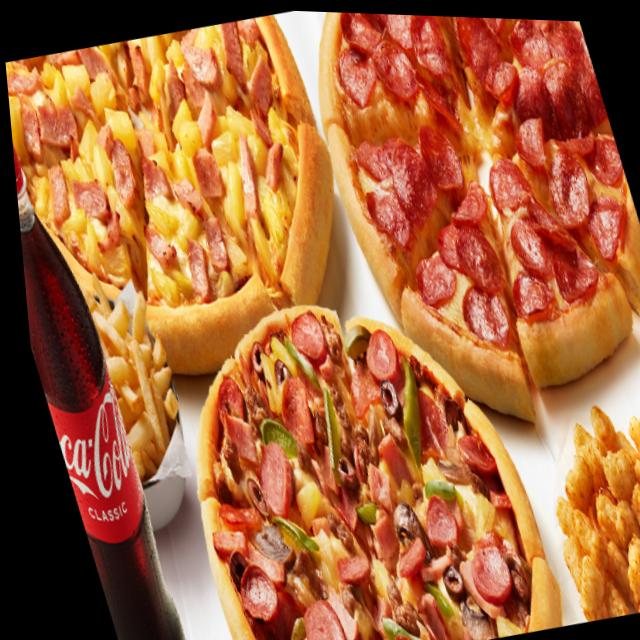pizza: (128, 260, 559, 640), (283, 8, 640, 450), (0, 1, 380, 411)
